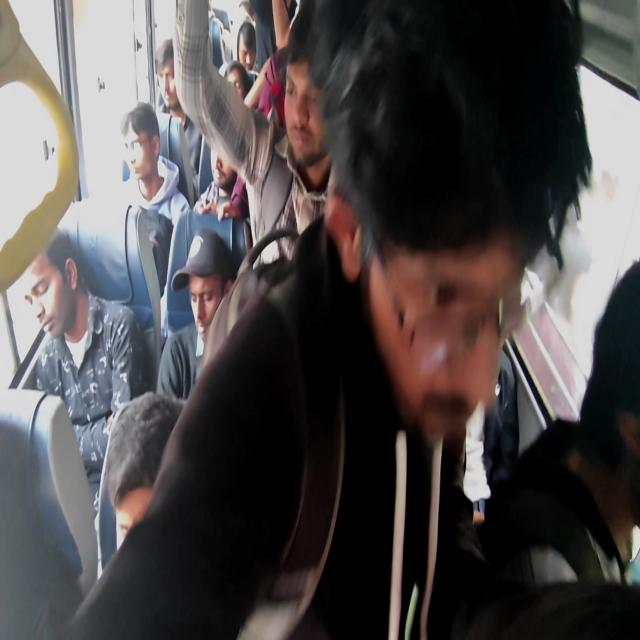person: (58, 0, 593, 638), (481, 258, 639, 637), (173, 0, 342, 272), (24, 229, 140, 576), (97, 390, 187, 574), (156, 227, 236, 400), (192, 60, 252, 219), (119, 101, 191, 225), (154, 38, 202, 194), (192, 146, 247, 220), (236, 20, 259, 78)
